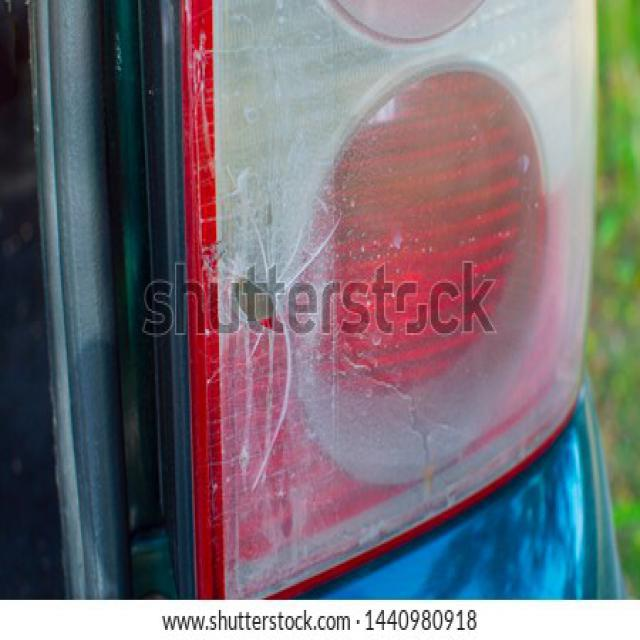Taillight-Damage: (191, 84, 372, 532)
